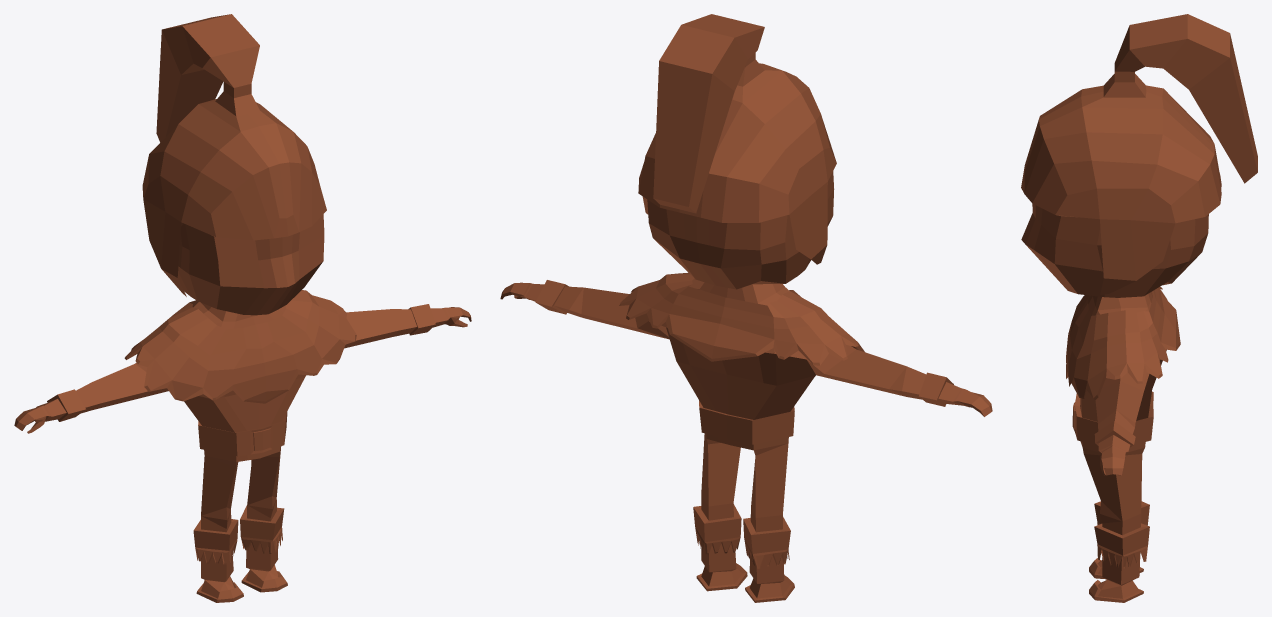
The model's file is sm_barbarian_champion_01.glb.
3 renders of one model, left to right at view 1: azimuth 30°, elevation 25°; view 2: azimuth 150°, elevation 25°; view 3: azimuth 270°, elevation 25°, orthographic. The views are drawn at different scales.
Visible parts, largest first — view 1: Cube; view 2: Cube; view 3: Cube.
Boxes of the visible parts, x1,y1,x2,y2 form: Cube: (14, 14, 471, 602); Cube: (500, 14, 992, 602); Cube: (1021, 14, 1257, 602).
Bounding box in the file's own units: 2.14 × 2.43 × 0.9384.
